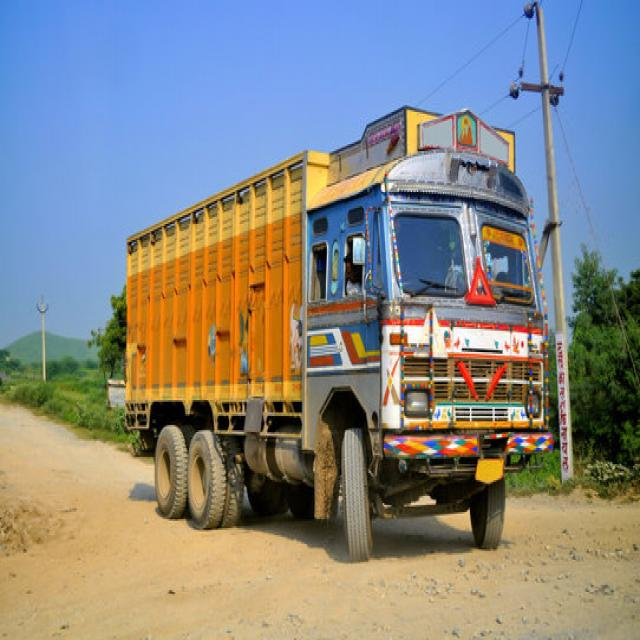Truck: (126, 126, 544, 557)
